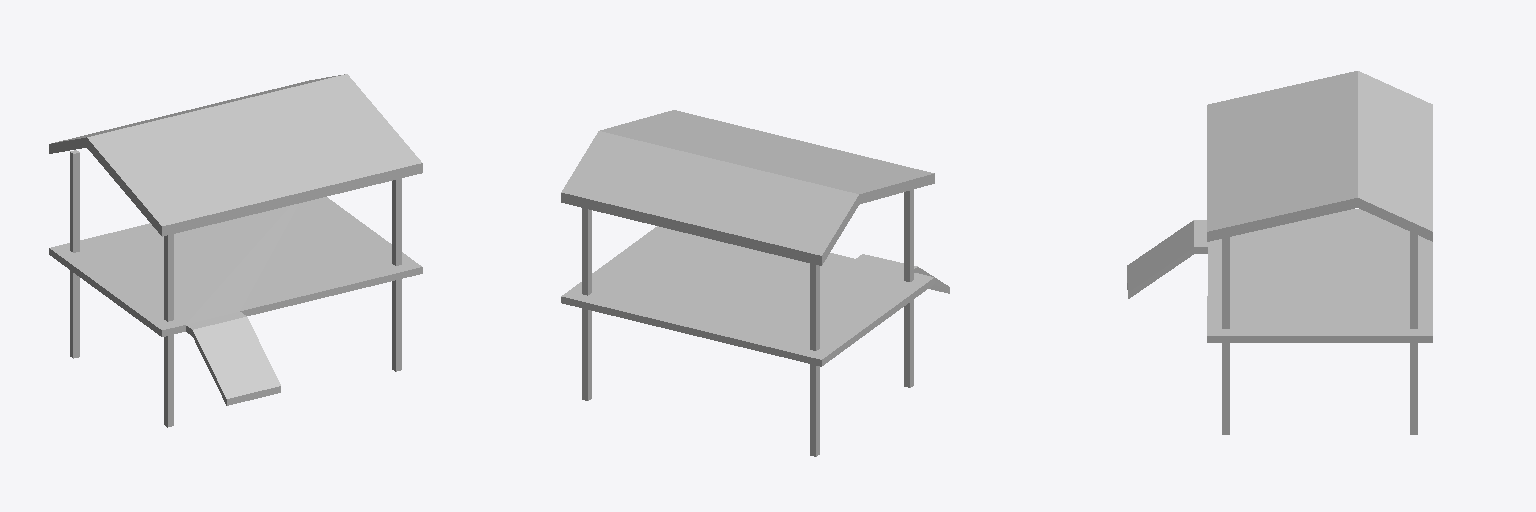
Rendered from Hut.obj.
3 views of the same model, side by side, from view 1: azimuth 30°, elevation 25°; view 2: azimuth 150°, elevation 25°; view 3: azimuth 270°, elevation 25° (orthographic).
Parts seen in each view (by area): view 1: Cube.005, Cube, Cube.004, Cube.002, Cube.001; view 2: Cube.005, Cube, Cube.004, Cube.003, Cube.001; view 3: Cube.005, Cube, Cube.003, Cube.002.
Boxes of the visible parts, box(x1,y1,x2,y2) form: Cube.005: box(49, 74, 422, 236); Cube: box(49, 197, 422, 405); Cube.004: box(70, 150, 79, 358); Cube.002: box(392, 178, 401, 371); Cube.001: box(164, 234, 173, 427); Cube.005: box(561, 110, 934, 265); Cube: box(561, 226, 949, 366); Cube.004: box(810, 264, 819, 456); Cube.003: box(582, 208, 591, 400); Cube.001: box(904, 190, 913, 387); Cube.005: box(1207, 71, 1432, 241); Cube: box(1127, 209, 1432, 342); Cube.003: box(1410, 232, 1417, 434); Cube.002: box(1222, 237, 1229, 434).
Bounding box in the file's own units: 4 × 3.58 × 4.07.